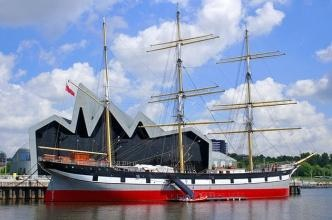fanchuan: (42, 8, 301, 207)
